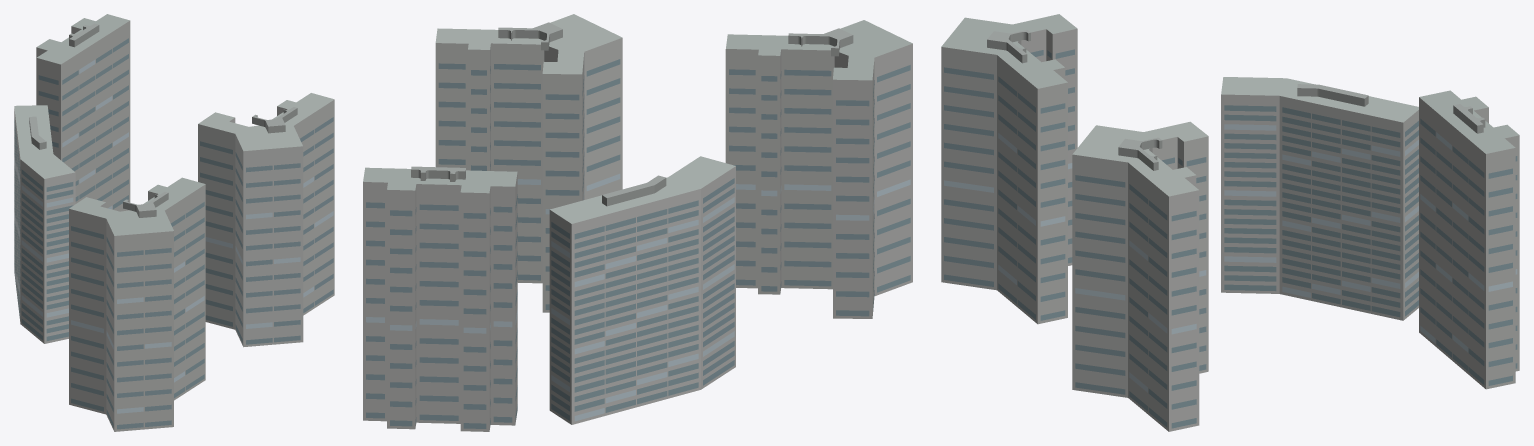
File: apt-a13778209.glb
3 views of the same model, side by side, from view 1: azimuth 30°, elevation 25°; view 2: azimuth 150°, elevation 25°; view 3: azimuth 270°, elevation 25° (orthographic). The views are drawn at different scales.
Parts seen in each view (by area): view 1: apt-a13778209; view 2: apt-a13778209; view 3: apt-a13778209.
Part boxes in pixels (x1,y1,x2,y2): apt-a13778209: [14, 14, 334, 431]; apt-a13778209: [363, 14, 912, 431]; apt-a13778209: [941, 14, 1519, 431].
Bounding box in the file's own units: 116 × 72 × 155.
